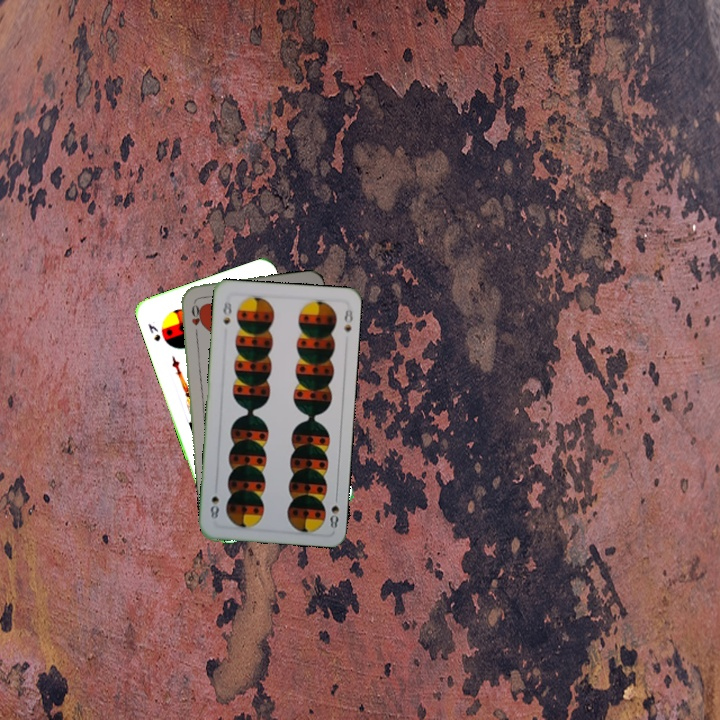HO: (187, 298, 202, 338)
S8: (326, 490, 341, 531), (219, 298, 234, 327)
SK: (144, 319, 163, 344)
